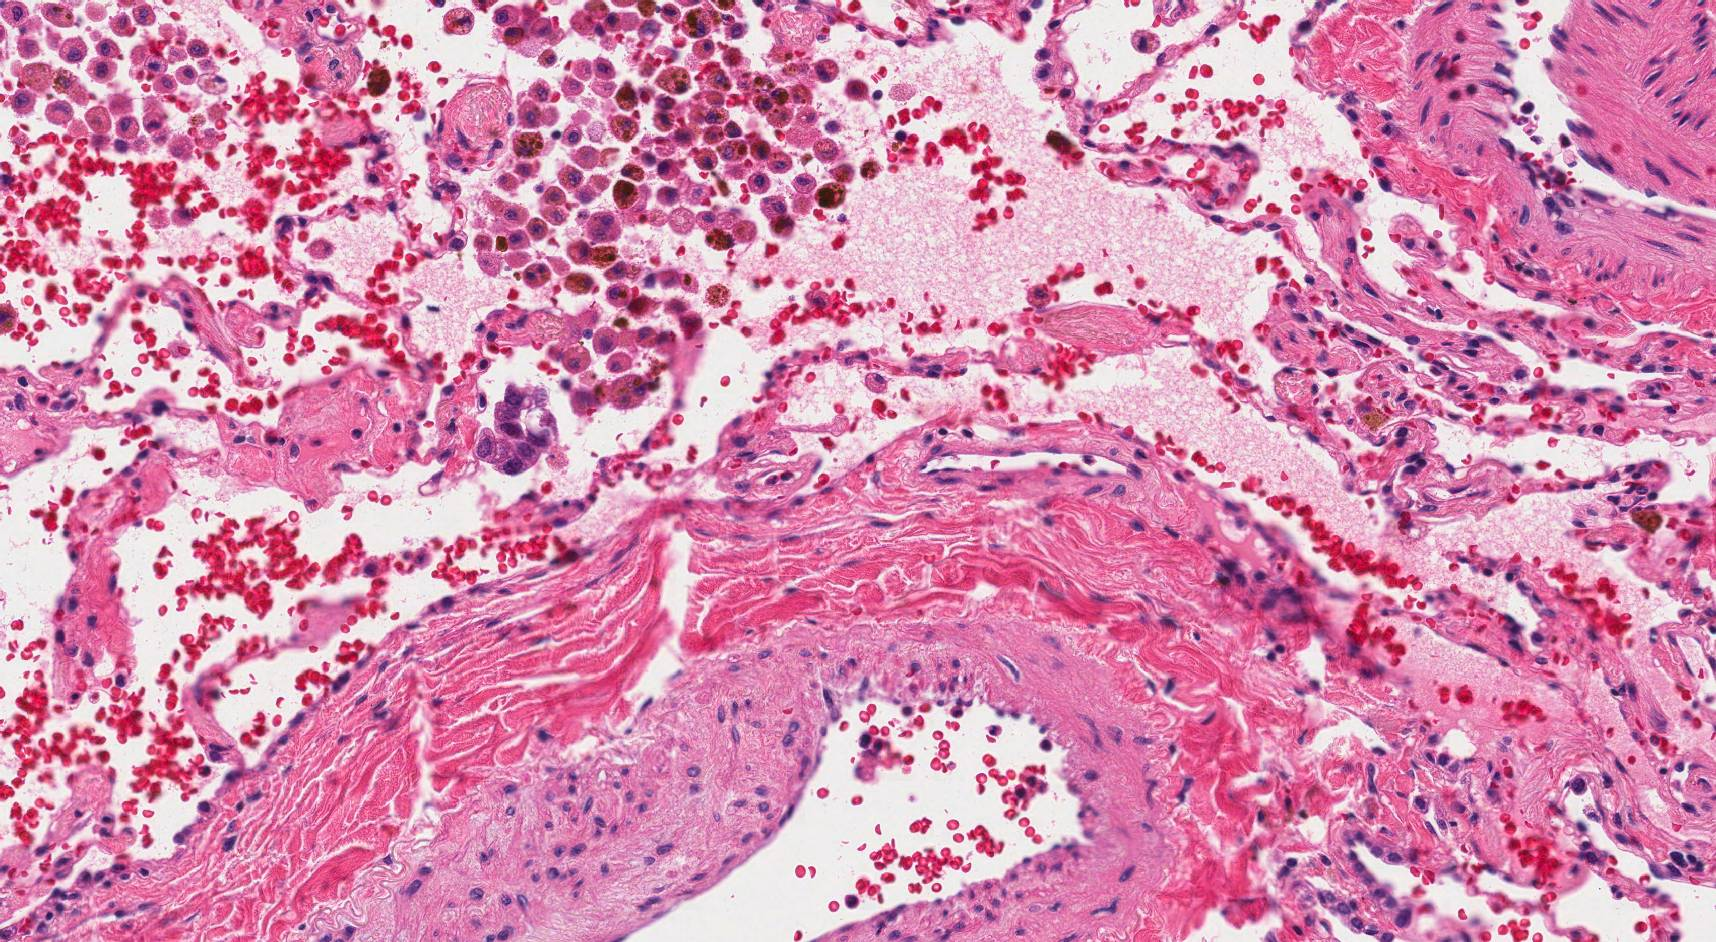stas: (475, 384, 558, 477)
